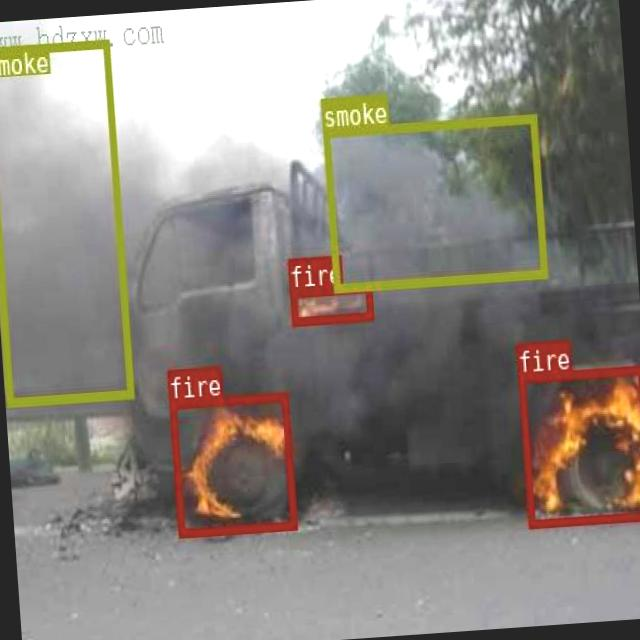fire: (516, 363, 640, 525), (168, 390, 295, 535), (288, 282, 373, 324)
smoke: (0, 38, 132, 404), (322, 113, 546, 290)
